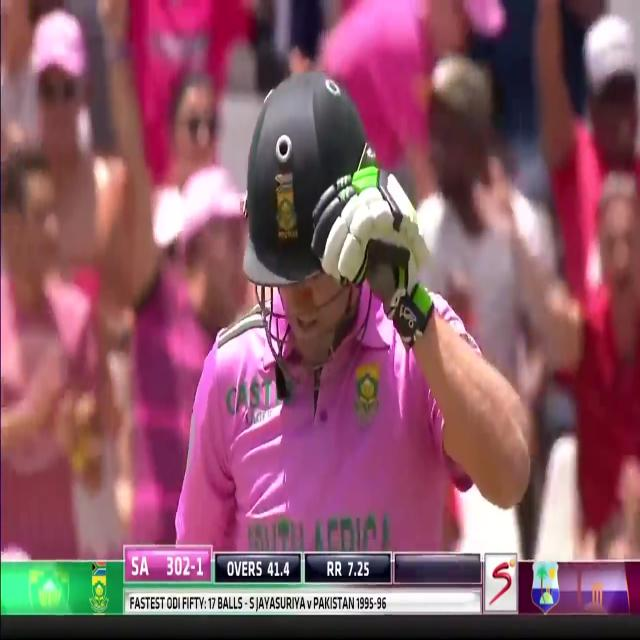Ball: (174, 70, 532, 550)
